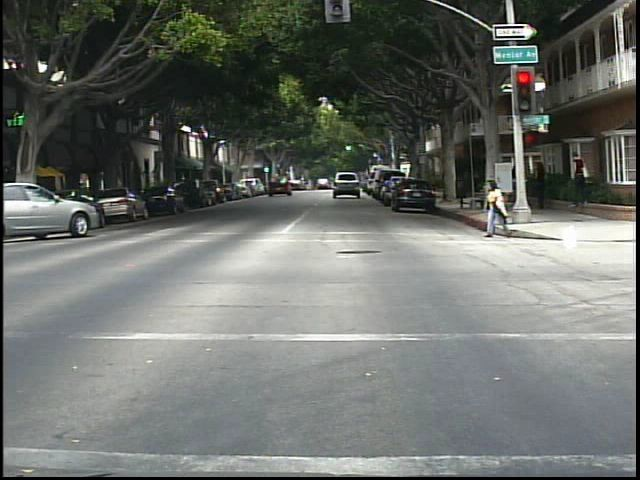person: (480, 174, 514, 242), (567, 148, 595, 208), (534, 155, 556, 212)
